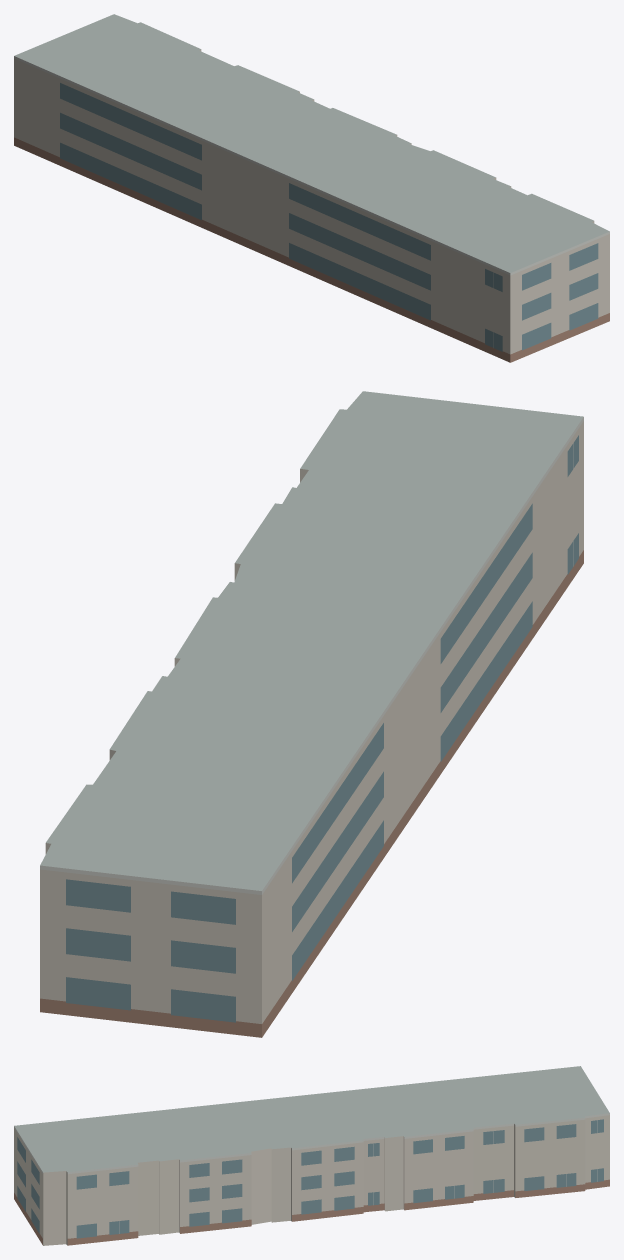
Rendered from survey-upis-32932585.glb.
3 views of the same model, one above another, from view 1: azimuth 30°, elevation 25°; view 2: azimuth 150°, elevation 25°; view 3: azimuth 270°, elevation 25° (orthographic). The views are drawn at different scales.
Visible parts, largest first — view 1: survey-upis-32932585.tmp; view 2: survey-upis-32932585.tmp; view 3: survey-upis-32932585.tmp.
Part boxes in pixels (x1,y1,x2,y2): survey-upis-32932585.tmp: [14, 14, 609, 362]; survey-upis-32932585.tmp: [40, 391, 583, 1037]; survey-upis-32932585.tmp: [14, 1066, 609, 1245].
Bounding box in the file's own units: 28.51 × 9.15 × 67.4.
